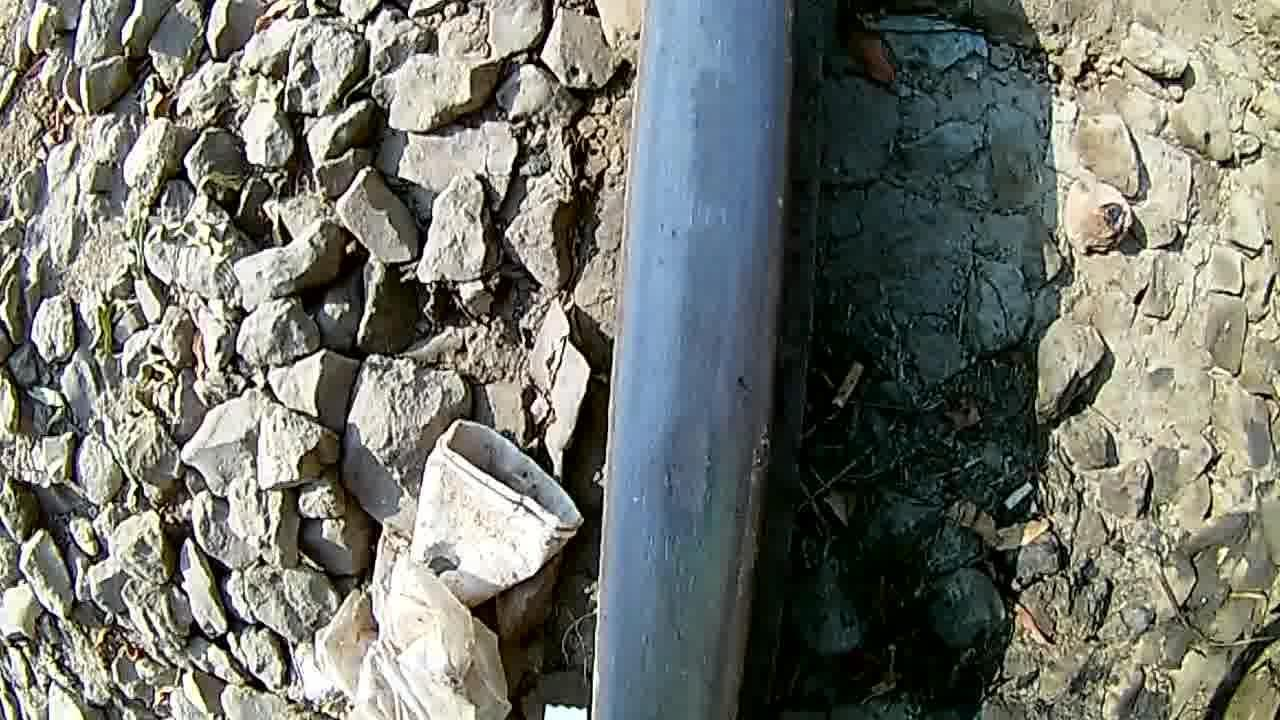crack: (614, 3, 792, 720)
